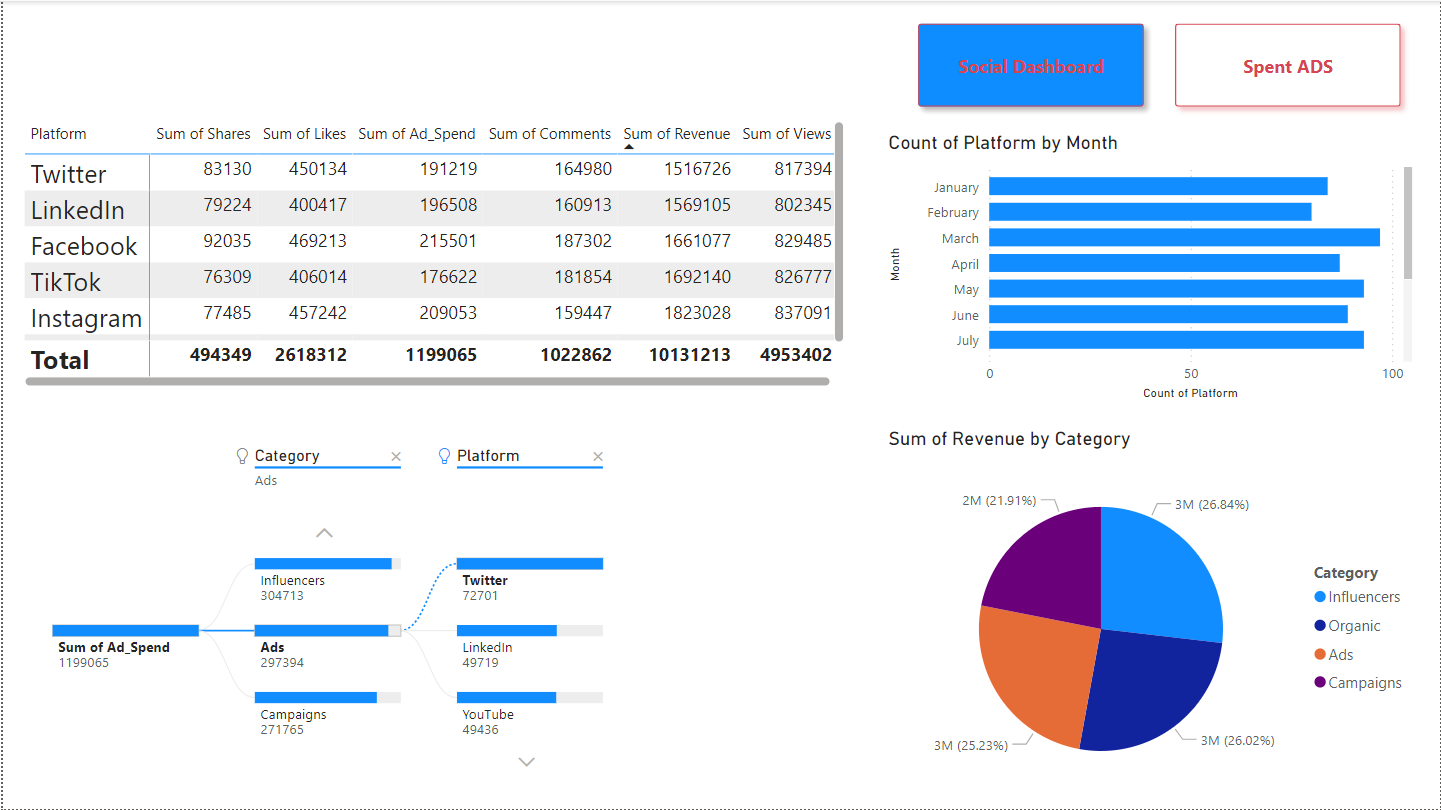

Layout of this report page (visuals, bound fields, positions):
{"tool":"powerbi","page":{"name":"Spent ADS","canvas":[1280,720],"ordinal":1},"visuals":[{"type":"pivotTable","fields":{"Rows":["Social_Media_Data_Task.Platform"],"Values":["Sum(Social_Media_Data_Task.Shares)","Sum(Social_Media_Data_Task.Likes)","Sum(Social_Media_Data_Task.Ad_Spend)","Sum(Social_Media_Data_Task.Comments)","Sum(Social_Media_Data_Task.Revenue)","Sum(Social_Media_Data_Task.Views)"]},"box":[14.7,102.8,739.6,245.6],"z":0},{"type":"decompositionTreeVisual","fields":{"Analyze":["Sum(Social_Media_Data_Task.Ad_Spend)"],"ExplainBy":["Social_Media_Data_Task.Category","Social_Media_Data_Task.Platform"]},"box":[14.7,379.1,739.6,340.4],"z":1},{"type":"clusteredBarChart","fields":{"Category":["Social_Media_Data_Task.Post_Date.Variation.Date Hierarchy.Month"],"Y":["CountNonNull(Social_Media_Data_Task.Platform)"]},"box":[783.6,116.1,476.6,244.3],"z":2},{"type":"pieChart","fields":{"Category":["Social_Media_Data_Task.Category"],"Y":["Sum(Social_Media_Data_Task.Revenue)"]},"box":[783.6,379.1,476.6,340.4],"z":3},{"type":"pageNavigator","box":[806.3,10.7,448.6,92.1],"z":4}]}

Visuals, with their boxes in screenshot pixels (x1, y1, x2, y2), scaled from the page's 1280x720 canvas onto the 1441x810 screenshot:
pivotTable - Social_Media_Data_Task.Platform x Sum(Social_Media_Data_Task.Shares): <region>17, 116, 849, 392</region>
decompositionTreeVisual - Sum(Social_Media_Data_Task.Ad_Spend) x Social_Media_Data_Task.Category: <region>17, 426, 849, 809</region>
clusteredBarChart - Social_Media_Data_Task.Post_Date.Variation.Date Hierarchy.Month x CountNonNull(Social_Media_Data_Task.Platform): <region>882, 131, 1419, 405</region>
pieChart - Social_Media_Data_Task.Category x Sum(Social_Media_Data_Task.Revenue): <region>882, 426, 1419, 809</region>
pageNavigator: <region>908, 12, 1413, 116</region>
